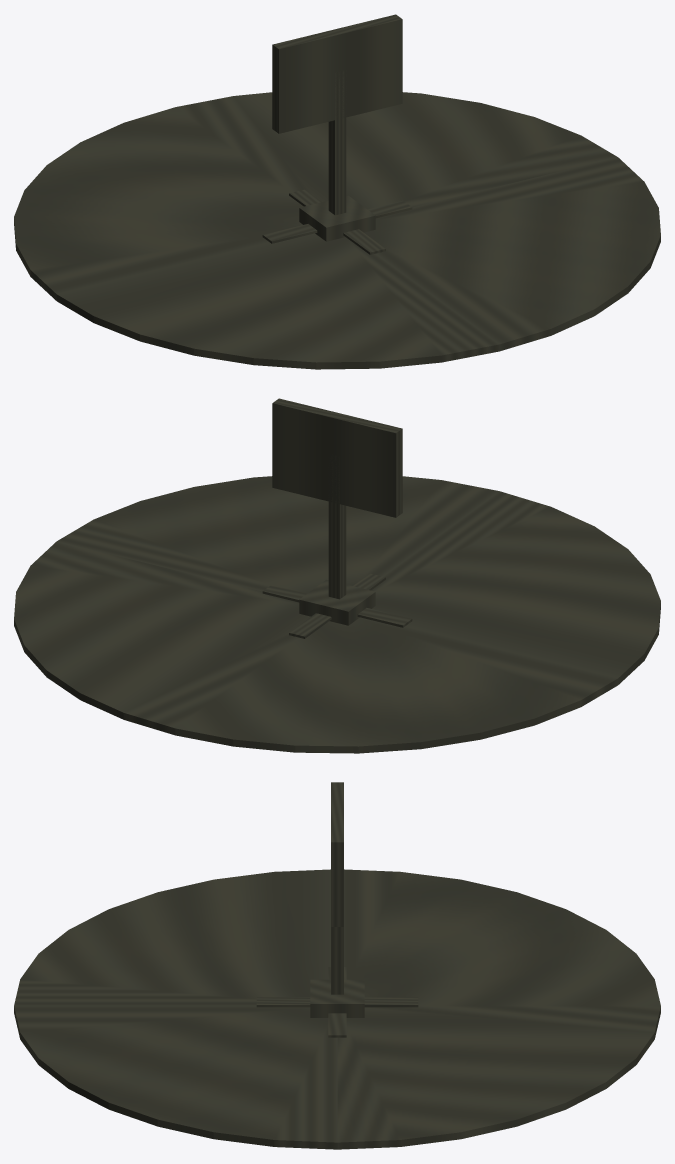
Rendered from env_extraction_zone_marker_a.glb.
3 views of the same model, one above another, from view 1: azimuth 30°, elevation 25°; view 2: azimuth 150°, elevation 25°; view 3: azimuth 270°, elevation 25° (orthographic).
Parts seen in each view (by area): view 1: env_extraction_zone_marker_a; view 2: env_extraction_zone_marker_a; view 3: env_extraction_zone_marker_a.
Boxes of the visible parts, x1,y1,x2,y2 form: env_extraction_zone_marker_a: [14, 14, 660, 369]; env_extraction_zone_marker_a: [14, 398, 660, 753]; env_extraction_zone_marker_a: [14, 782, 660, 1149].
Size of the model in its own units: 5 by 1.77 by 5.
Materials: 1 (1 with a texture image).
